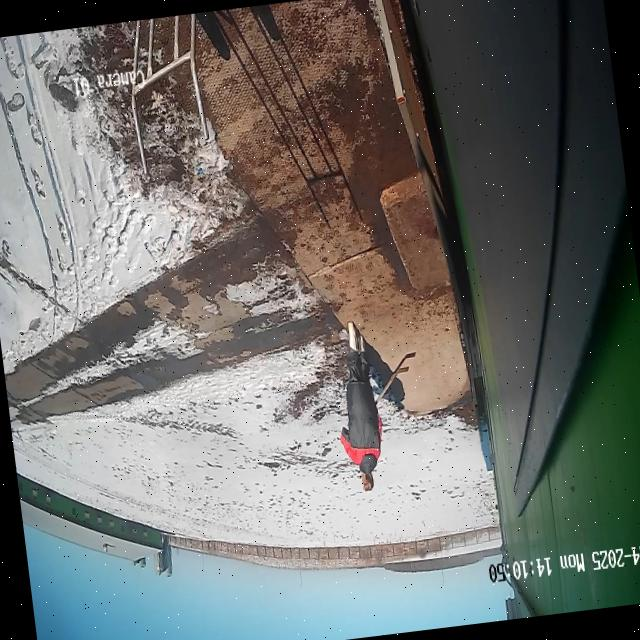Red uniform: (325, 316, 392, 496)
